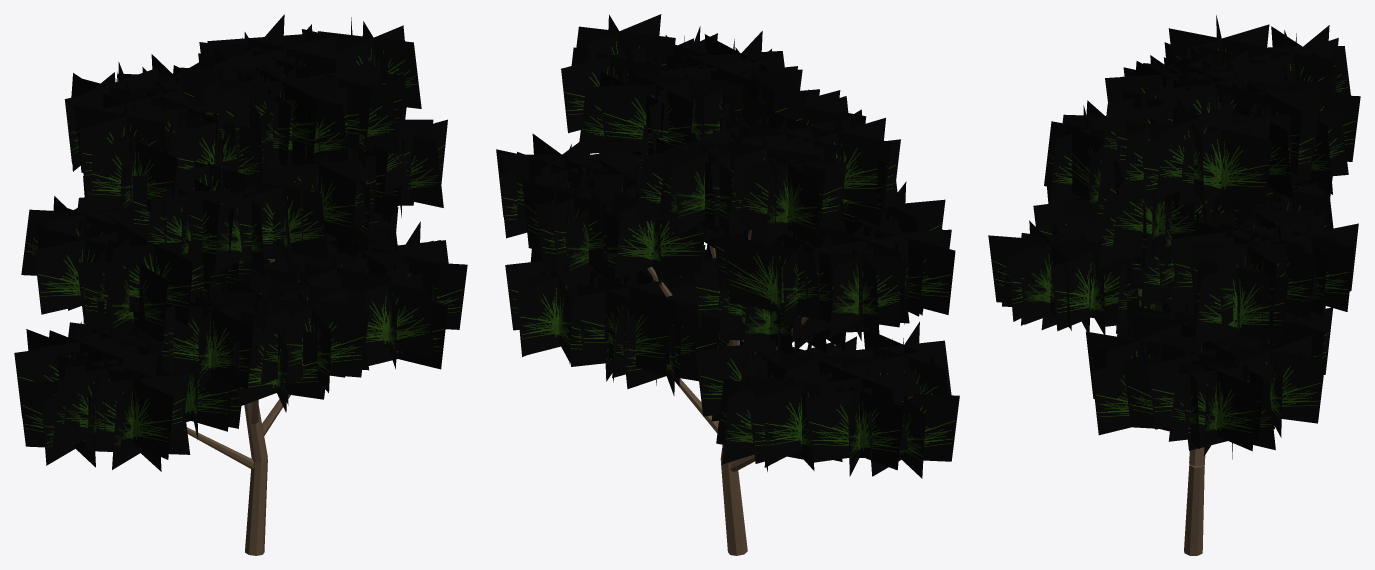
File: low_shrub.glb
The picture shows the model from 3 angles, left to right: view 1: azimuth 30°, elevation 25°; view 2: azimuth 150°, elevation 25°; view 3: azimuth 270°, elevation 25°; orthographic projection.
Visible parts, largest first — view 1: hachiko_low_shrub_unplaced; view 2: hachiko_low_shrub_unplaced; view 3: hachiko_low_shrub_unplaced.
Part boxes in pixels (x1,y1,x2,y2): hachiko_low_shrub_unplaced: (14, 14, 467, 555); hachiko_low_shrub_unplaced: (496, 14, 959, 555); hachiko_low_shrub_unplaced: (988, 15, 1360, 555).
Bounding box in the file's own units: 1.11 × 1.19 × 0.8163.
Materials: 2 (1 with a texture image).
